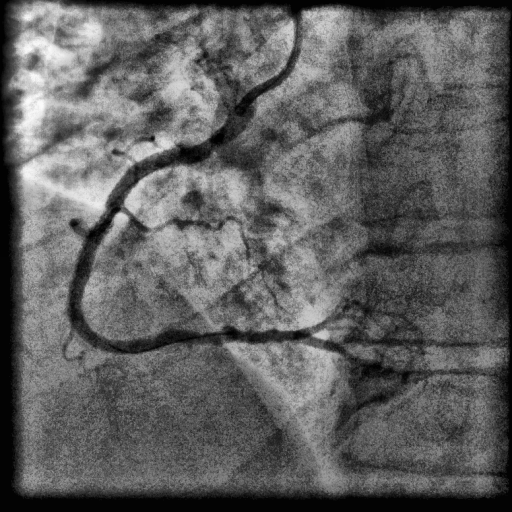pborca: (295, 318, 331, 337)
pda: (297, 337, 490, 377)
rca: (68, 112, 296, 355)
